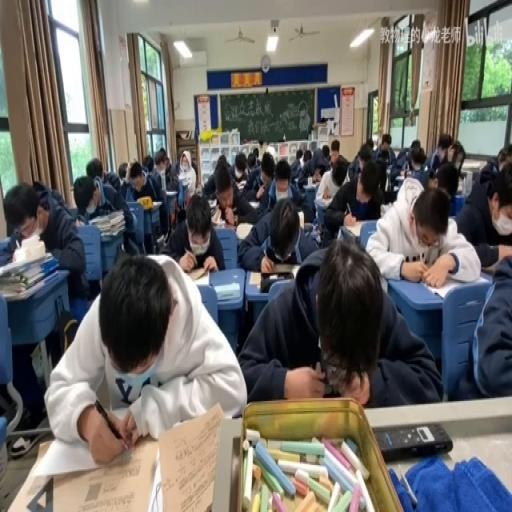calculator: (16, 432, 161, 510), (156, 402, 226, 512), (416, 268, 486, 302), (248, 262, 299, 283), (146, 448, 162, 512), (88, 208, 124, 234), (214, 282, 240, 300), (480, 257, 506, 273), (186, 264, 208, 282), (234, 222, 253, 240), (176, 178, 186, 209), (302, 180, 318, 198), (210, 205, 224, 223), (380, 200, 393, 214), (314, 195, 329, 206), (206, 196, 216, 208), (302, 222, 314, 232), (298, 210, 304, 229), (75, 215, 85, 226), (234, 179, 246, 188), (166, 189, 178, 198), (457, 178, 464, 193), (248, 199, 258, 208), (150, 199, 162, 206), (290, 176, 298, 186), (394, 172, 405, 179), (306, 176, 313, 186), (386, 165, 394, 172)
paper: (46, 250, 244, 464), (238, 238, 434, 408), (365, 173, 480, 286), (3, 180, 88, 308), (238, 192, 318, 272), (323, 155, 384, 240), (161, 192, 224, 272), (122, 158, 166, 243), (388, 140, 422, 186), (85, 155, 120, 198), (426, 132, 456, 175), (221, 149, 252, 189), (308, 141, 333, 182), (373, 131, 394, 168), (288, 148, 306, 179), (478, 158, 500, 183), (161, 162, 179, 192), (274, 159, 290, 191), (497, 144, 512, 170), (357, 145, 372, 171), (154, 148, 168, 169), (142, 152, 154, 174), (332, 168, 346, 186), (330, 140, 340, 164), (190, 158, 198, 186), (125, 183, 136, 202), (246, 151, 257, 168), (117, 160, 127, 178), (365, 136, 374, 154), (264, 144, 275, 158), (410, 138, 420, 151), (302, 149, 312, 162), (301, 162, 308, 174)
person: (374, 422, 451, 461), (321, 381, 339, 398), (314, 220, 324, 244)
